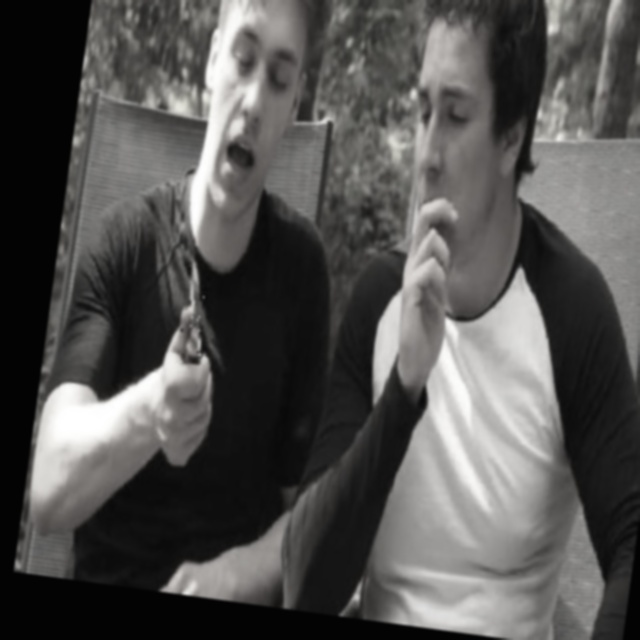Sharp-Object: (176, 261, 215, 366)
